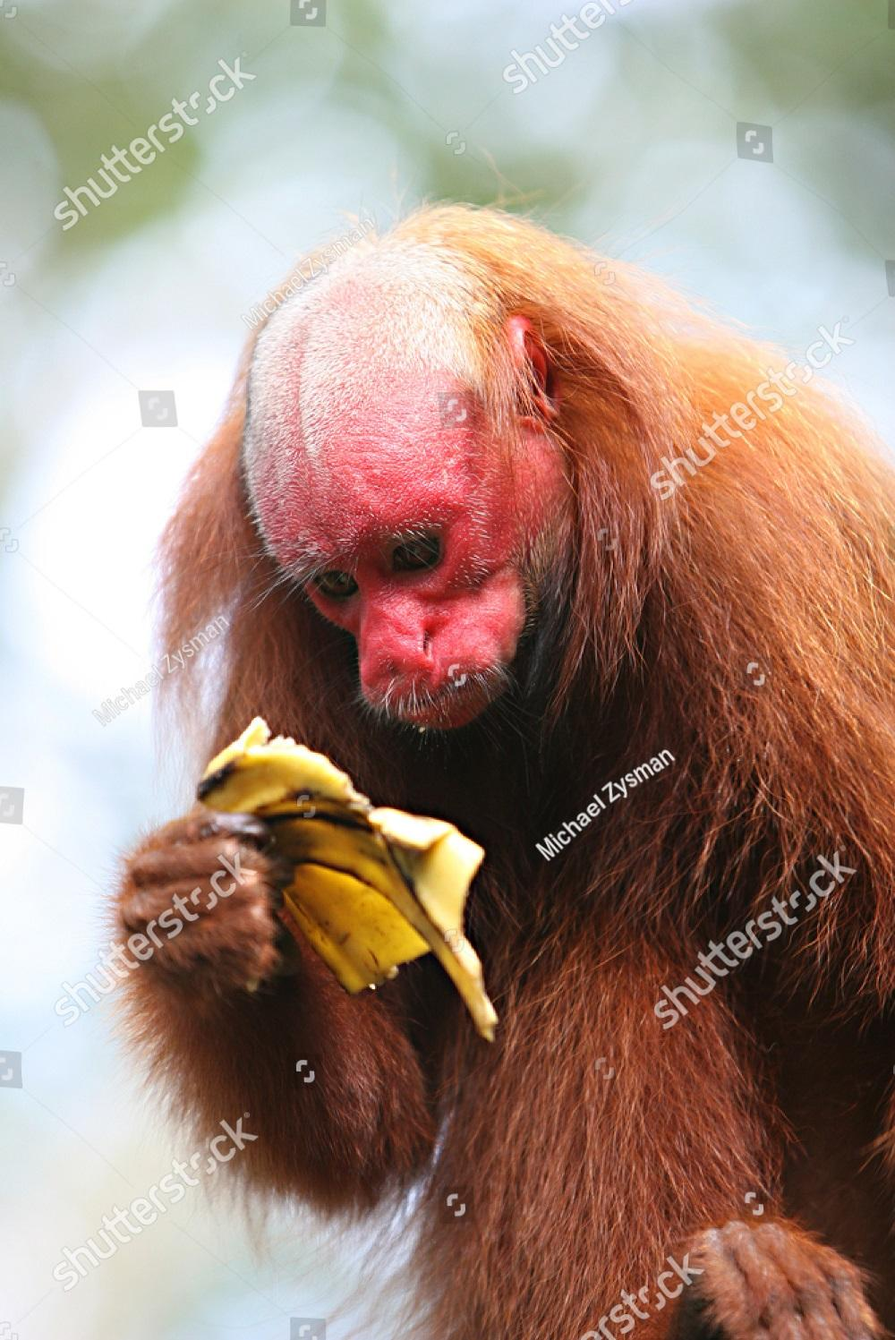monkey: (113, 206, 895, 1340)
